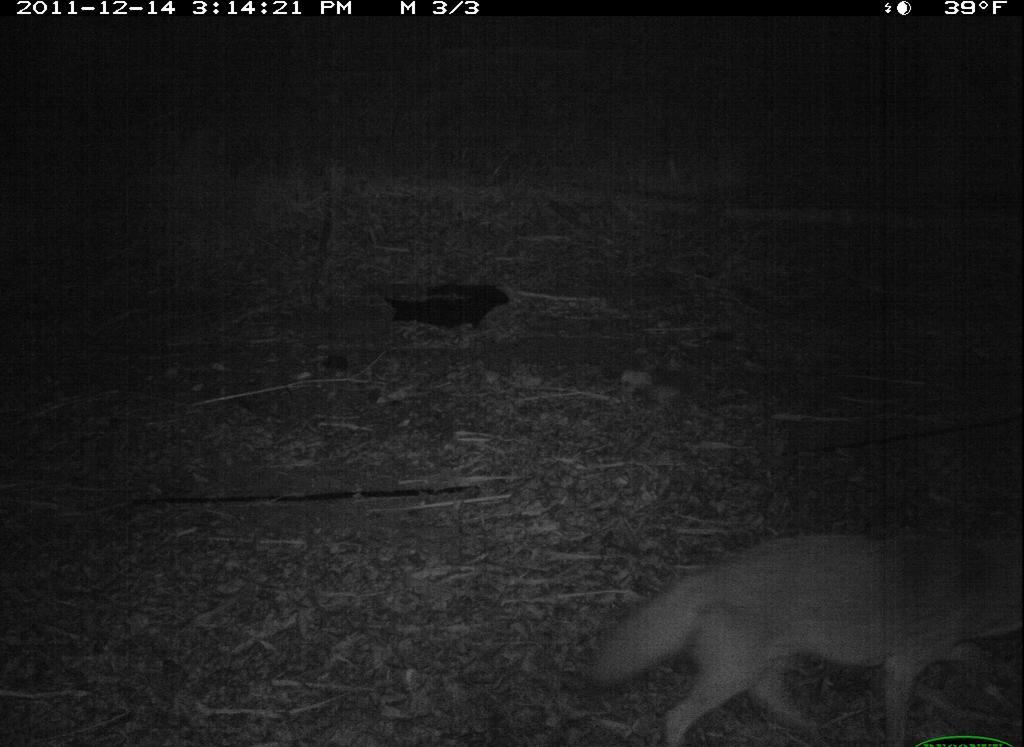coyote: (577, 509, 1024, 674)
